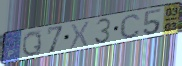3: (93, 17, 113, 46)
5: (142, 7, 163, 36)
7: (46, 24, 64, 54)
C: (118, 13, 142, 40)
Q: (21, 30, 43, 57)
X: (68, 20, 91, 51)
